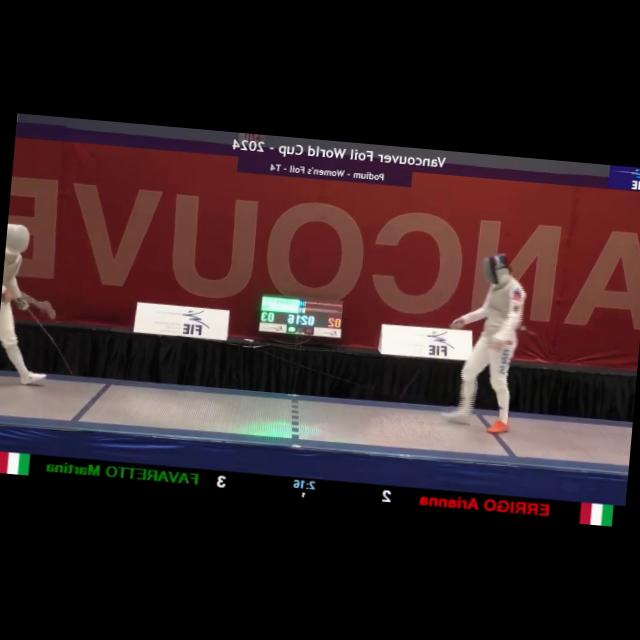blade: (396, 314, 460, 404), (10, 300, 80, 378)
